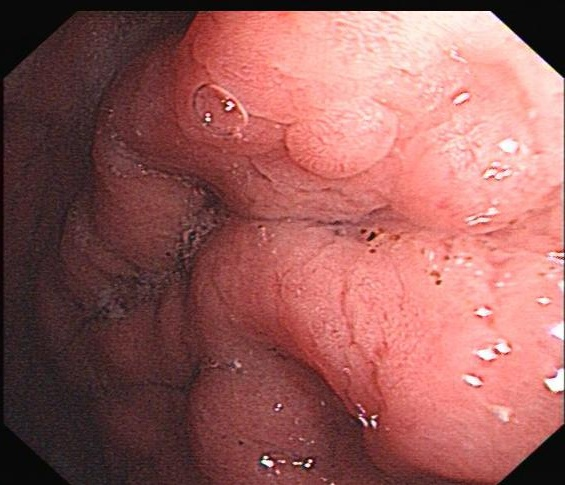Polyp: (275, 94, 416, 185)
